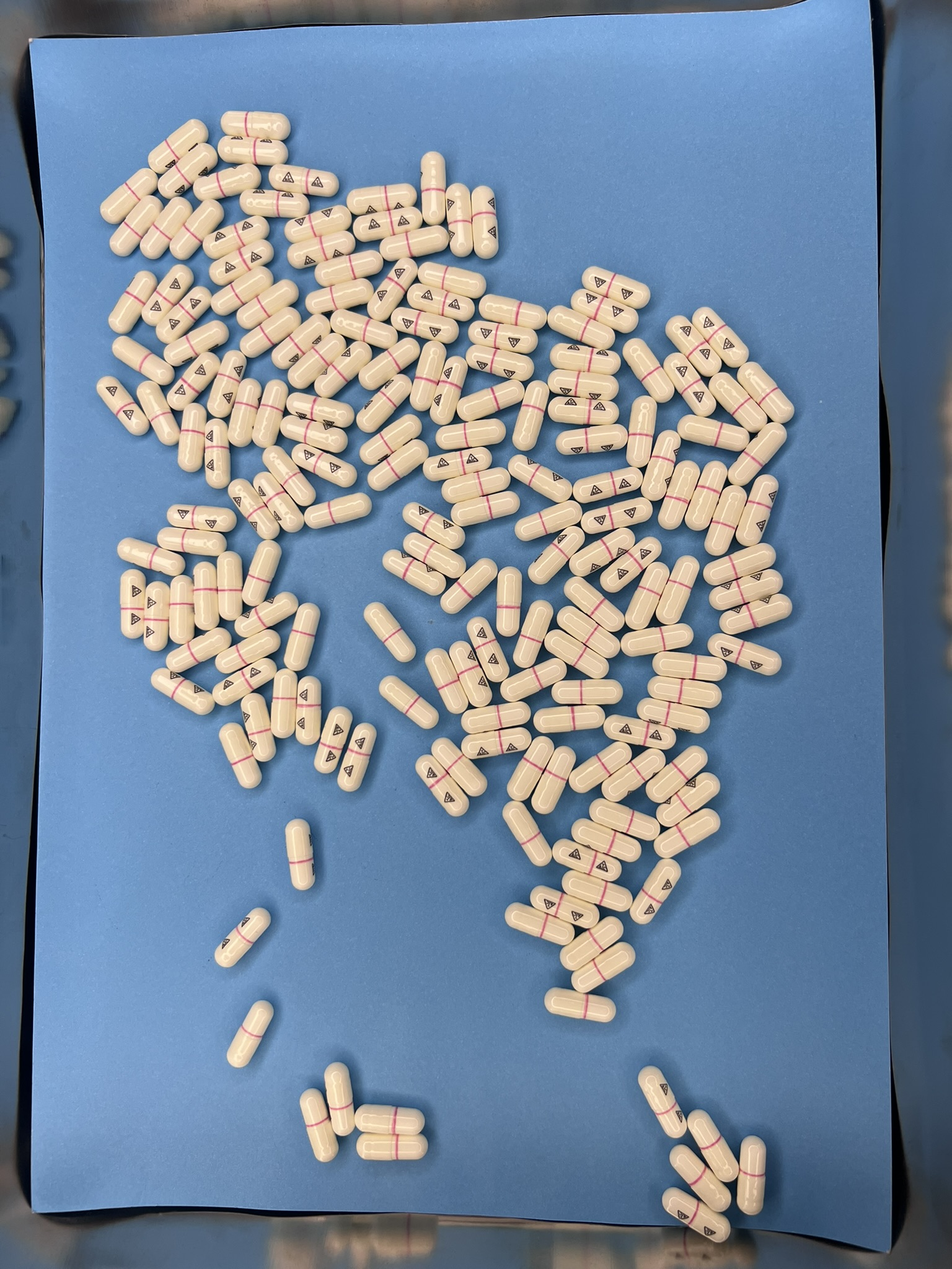Capsule: (669, 1143, 732, 1214), (643, 743, 710, 804), (737, 363, 797, 429), (686, 1108, 739, 1182), (559, 913, 625, 972), (664, 1186, 731, 1244), (416, 750, 473, 817), (602, 540, 664, 601), (706, 372, 767, 433), (440, 557, 499, 620), (729, 424, 786, 489), (664, 351, 718, 419), (169, 199, 228, 261), (363, 602, 420, 666), (209, 268, 279, 320), (602, 747, 667, 803), (638, 1066, 687, 1140), (568, 941, 635, 995), (260, 444, 317, 507), (556, 603, 621, 658), (109, 194, 164, 259), (253, 469, 307, 535), (631, 857, 684, 924), (286, 330, 346, 389), (431, 737, 490, 797), (665, 315, 722, 377), (657, 772, 722, 826), (239, 306, 305, 359), (621, 339, 674, 405), (692, 307, 750, 367), (271, 313, 331, 371), (356, 372, 412, 434), (170, 349, 226, 411), (215, 905, 270, 968), (366, 439, 430, 493), (359, 413, 423, 467), (543, 629, 612, 679), (570, 742, 635, 795), (227, 999, 274, 1072), (530, 885, 606, 930), (378, 675, 439, 731), (228, 478, 282, 541), (96, 376, 148, 441), (625, 558, 670, 633), (656, 556, 701, 630), (159, 285, 217, 342), (703, 542, 778, 586), (149, 118, 210, 172), (564, 577, 625, 631), (506, 738, 553, 808), (156, 146, 218, 199), (507, 455, 574, 504), (166, 316, 229, 368), (572, 818, 644, 863), (166, 626, 232, 675), (111, 335, 173, 387), (143, 197, 194, 260), (707, 632, 783, 674), (401, 504, 466, 553), (234, 590, 299, 639), (657, 809, 722, 858), (705, 484, 748, 558), (552, 838, 624, 882), (237, 278, 299, 329), (735, 474, 777, 549), (530, 746, 577, 813), (291, 442, 358, 489), (529, 528, 585, 584), (316, 340, 373, 395), (100, 171, 157, 226), (216, 629, 281, 677), (687, 461, 728, 537), (505, 902, 574, 947), (459, 378, 528, 423), (567, 531, 629, 581), (214, 657, 276, 707), (109, 270, 158, 333), (356, 344, 412, 399), (584, 266, 652, 311), (659, 458, 700, 532), (711, 568, 783, 610), (366, 259, 420, 315), (571, 288, 638, 333), (512, 600, 554, 671), (382, 551, 444, 599), (562, 868, 631, 911), (219, 722, 262, 791), (299, 1088, 338, 1164), (425, 649, 470, 714), (146, 264, 193, 326), (208, 347, 247, 421), (588, 799, 656, 841), (136, 382, 178, 450), (570, 465, 645, 503), (719, 596, 790, 636), (313, 706, 354, 775), (500, 662, 567, 704), (468, 616, 510, 683), (676, 415, 750, 453), (307, 279, 381, 317), (503, 802, 549, 863), (152, 670, 213, 716), (441, 467, 511, 507), (516, 500, 581, 543), (410, 341, 447, 416), (402, 532, 465, 576), (208, 242, 271, 286), (550, 306, 616, 348), (451, 489, 520, 529), (117, 536, 186, 576), (208, 216, 272, 259), (581, 497, 653, 535), (407, 283, 475, 323), (313, 248, 384, 286), (285, 203, 352, 243), (643, 425, 679, 499), (545, 987, 619, 1023), (428, 353, 466, 423), (253, 381, 289, 454), (436, 417, 509, 453), (512, 377, 548, 450), (286, 392, 353, 431), (243, 539, 282, 606), (449, 642, 491, 704), (557, 422, 627, 459), (621, 625, 697, 659), (192, 164, 260, 202), (338, 723, 376, 791), (329, 311, 395, 350), (604, 714, 677, 749), (228, 374, 263, 447), (638, 699, 710, 734), (651, 650, 725, 684), (304, 494, 372, 531), (736, 1137, 766, 1219), (418, 261, 486, 297), (287, 233, 355, 269), (281, 414, 348, 450), (423, 447, 490, 483), (462, 701, 530, 736), (380, 225, 446, 261), (324, 1063, 356, 1137), (286, 605, 320, 674), (625, 396, 658, 467), (646, 676, 717, 709), (479, 293, 543, 329), (202, 418, 233, 492), (241, 694, 275, 761), (471, 322, 540, 355), (347, 183, 418, 215), (354, 1104, 425, 1136), (462, 728, 528, 762), (534, 704, 606, 735), (466, 344, 529, 379), (551, 342, 617, 375), (168, 504, 236, 536), (270, 165, 338, 197), (159, 527, 231, 557), (239, 189, 311, 219), (222, 110, 291, 141), (353, 209, 417, 242), (392, 308, 454, 342), (218, 136, 286, 167), (285, 820, 315, 890), (552, 677, 621, 707), (549, 397, 618, 427), (548, 370, 615, 400), (420, 151, 447, 225), (472, 186, 499, 260), (178, 404, 206, 475), (446, 184, 474, 255), (357, 1134, 428, 1162), (192, 561, 220, 631), (168, 575, 196, 644), (216, 551, 244, 619), (271, 668, 299, 736), (119, 569, 147, 637), (144, 581, 172, 648), (495, 566, 522, 635), (295, 677, 322, 743)
